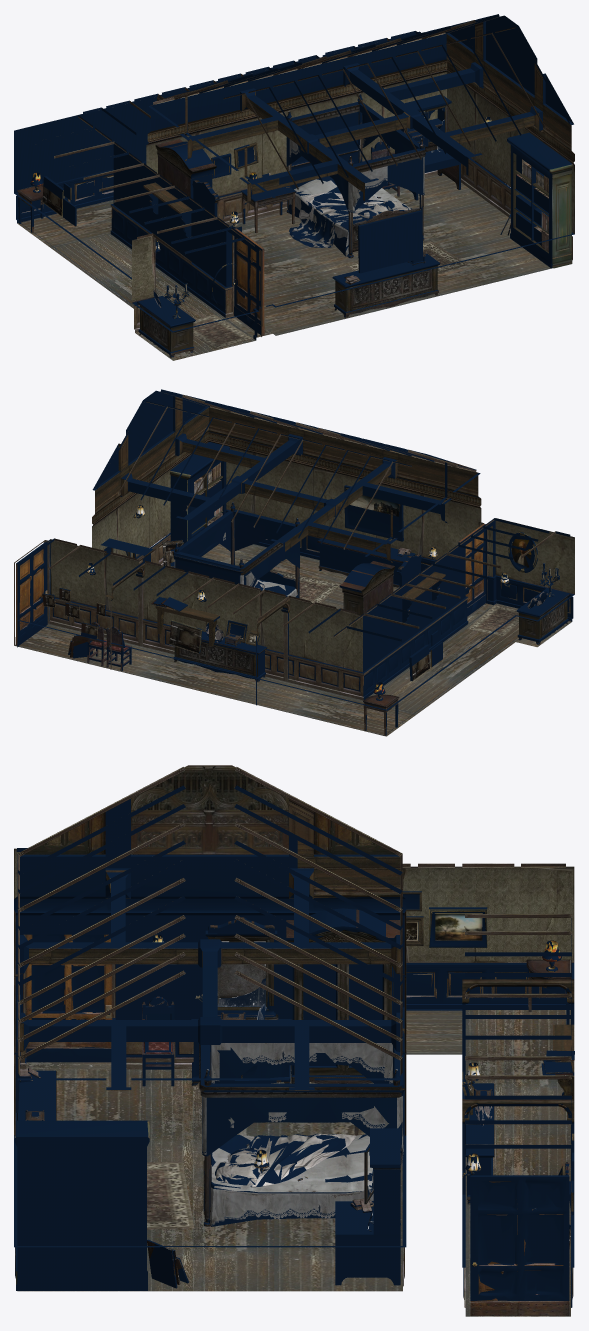
The model's file is abandoned_mansion_bedroom.glb.
3 renders of one model, top to bottom at view 1: azimuth 30°, elevation 25°; view 2: azimuth 150°, elevation 25°; view 3: azimuth 270°, elevation 25°, orthographic. The views are drawn at different scales.
Visible parts, largest first — view 1: BackSide_2, FrontSide_2, FrontSide_10, FrontSide_16, FrontSide_12, FrontSide_9, FrontSide_19, FrontSide_5, FrontSide_17, FrontSide_6, FrontSide_1, FrontSide_3 (+1 smaller); view 2: BackSide_2, FrontSide_12, FrontSide_10, FrontSide_2, FrontSide_16, FrontSide_19, FrontSide_9, FrontSide_20, FrontSide_6, FrontSide_17, FrontSide_5; view 3: BackSide_2, FrontSide_2, FrontSide_9, FrontSide_13, FrontSide_10, FrontSide_16, FrontSide_12, FrontSide_3, FrontSide_6, FrontSide_20, FrontSide_17, FrontSide_1 (+3 smaller).
Boxes of the visible parts, x1=… form: BackSide_2: x1=14, y1=14, x2=574, y2=357; FrontSide_2: x1=17, y1=173, x2=551, y2=360; FrontSide_10: x1=143, y1=22, x2=574, y2=228; FrontSide_16: x1=17, y1=93, x2=458, y2=358; FrontSide_12: x1=132, y1=71, x2=574, y2=302; FrontSide_9: x1=54, y1=16, x2=545, y2=263; FrontSide_19: x1=22, y1=159, x2=572, y2=357; FrontSide_5: x1=344, y1=138, x2=572, y2=284; FrontSide_17: x1=193, y1=241, x2=467, y2=349; FrontSide_6: x1=232, y1=228, x2=264, y2=335; FrontSide_1: x1=291, y1=192, x2=408, y2=247; FrontSide_3: x1=289, y1=138, x2=424, y2=256; BackSide_2: x1=16, y1=389, x2=574, y2=735; FrontSide_12: x1=50, y1=441, x2=574, y2=672; FrontSide_10: x1=92, y1=396, x2=481, y2=646; FrontSide_2: x1=14, y1=543, x2=571, y2=736; FrontSide_16: x1=87, y1=502, x2=569, y2=735; FrontSide_19: x1=14, y1=529, x2=570, y2=700; FrontSide_9: x1=48, y1=391, x2=555, y2=637; FrontSide_20: x1=42, y1=488, x2=537, y2=680; FrontSide_6: x1=15, y1=523, x2=485, y2=645; FrontSide_17: x1=271, y1=569, x2=518, y2=636; FrontSide_5: x1=170, y1=462, x2=411, y2=556; BackSide_2: x1=14, y1=785, x2=574, y2=1307; FrontSide_2: x1=17, y1=1010, x2=570, y2=1316; FrontSide_9: x1=17, y1=767, x2=571, y2=1144; FrontSide_13: x1=24, y1=765, x2=395, y2=854; FrontSide_10: x1=14, y1=799, x2=574, y2=1135; FrontSide_16: x1=25, y1=909, x2=571, y2=1226; FrontSide_12: x1=14, y1=848, x2=574, y2=962; FrontSide_3: x1=202, y1=1043, x2=403, y2=1225; FrontSide_6: x1=26, y1=934, x2=569, y2=1315; FrontSide_20: x1=147, y1=892, x2=574, y2=1284; FrontSide_17: x1=147, y1=1161, x2=194, y2=1229; FrontSide_1: x1=215, y1=1133, x2=355, y2=1187.
Bounding box in the file's own units: 12.14 × 5.27 × 8.8.
22 materials, 22 textured.
